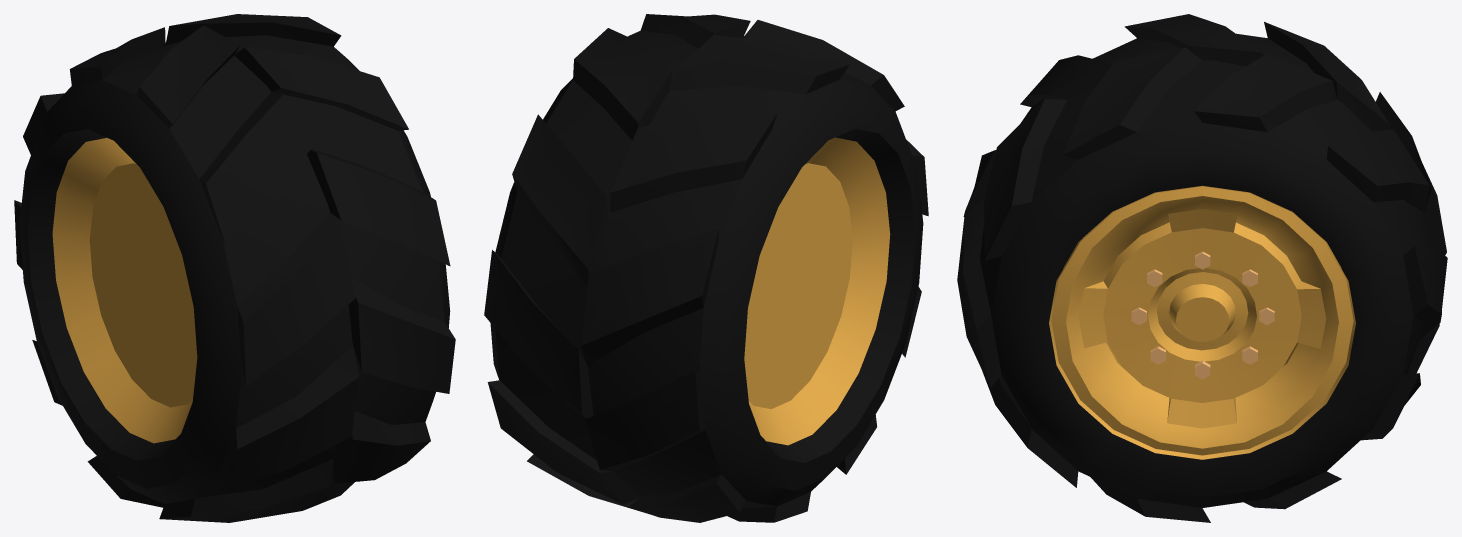
The model's file is Tire-2.fbx.
The picture shows the model from 3 angles, left to right: view 1: azimuth 30°, elevation 25°; view 2: azimuth 150°, elevation 25°; view 3: azimuth 270°, elevation 25°; orthographic projection. The views are drawn at different scales.
Visible parts, largest first — view 1: g polySurface1 pasted__pCylinder1 group; view 2: g polySurface1 pasted__pCylinder1 group; view 3: g polySurface1 pasted__pCylinder1 group, g pasted__pCylinder1 group polySurface2, g pasted__pCylinder2 group4.
Boxes of the visible parts, box(x1,y1,x2,y2) form: g polySurface1 pasted__pCylinder1 group: box(14, 14, 455, 522); g polySurface1 pasted__pCylinder1 group: box(484, 14, 928, 522); g polySurface1 pasted__pCylinder1 group: box(957, 14, 1447, 522); g pasted__pCylinder1 group polySurface2: box(1049, 186, 1355, 459); g pasted__pCylinder2 group4: box(1131, 251, 1274, 379).
Bounding box in the file's own units: 145 × 256 × 256.
